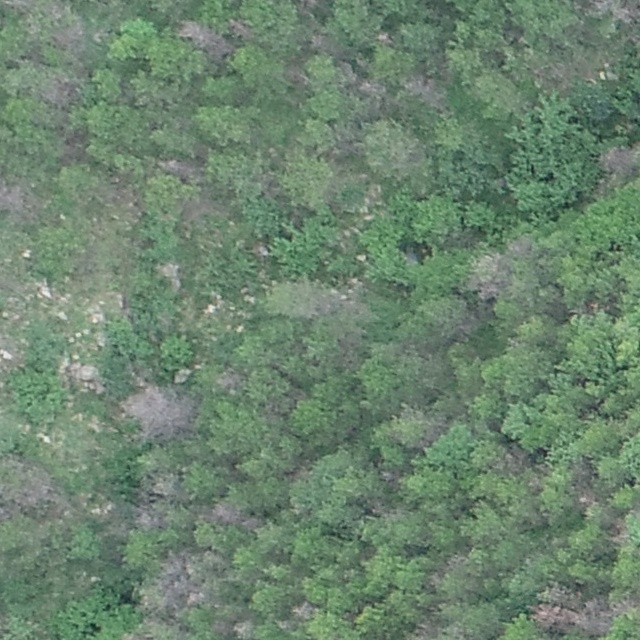unhealthy: (143, 551, 216, 613), (122, 382, 197, 442), (7, 461, 69, 515), (175, 19, 232, 62), (465, 254, 509, 301), (0, 174, 40, 222), (401, 73, 447, 111), (533, 59, 578, 93), (597, 142, 639, 178), (578, 596, 613, 636), (206, 498, 256, 526), (139, 469, 185, 499), (531, 601, 576, 630), (38, 76, 80, 107), (51, 20, 87, 55), (572, 0, 631, 20), (308, 30, 350, 57), (535, 580, 576, 607), (159, 155, 203, 180), (133, 504, 166, 531), (354, 75, 389, 100), (214, 367, 245, 393), (402, 620, 441, 640), (226, 17, 254, 42), (505, 235, 535, 257), (288, 600, 315, 620), (232, 618, 252, 640), (374, 31, 393, 48)
